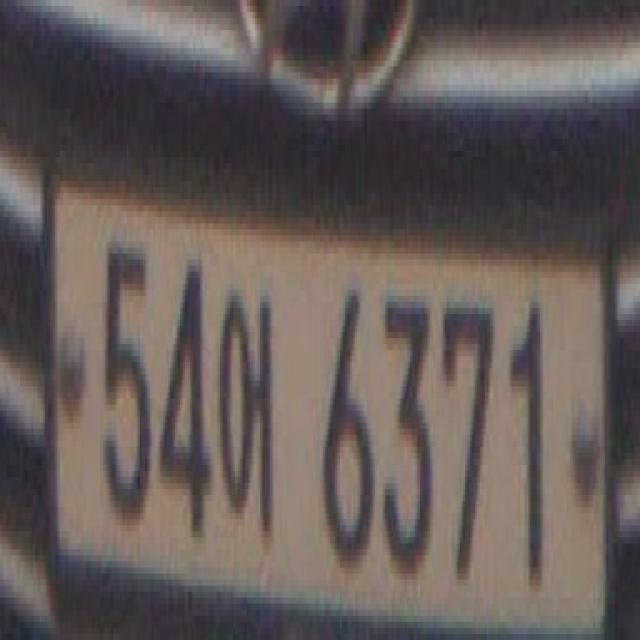1: (505, 278, 562, 598)
3: (372, 242, 440, 574)
4: (158, 188, 218, 538)
5: (105, 194, 158, 532)
6: (310, 224, 382, 574)
7: (438, 278, 495, 598)
eo: (217, 254, 280, 544)
license_plate: (33, 114, 621, 640)
